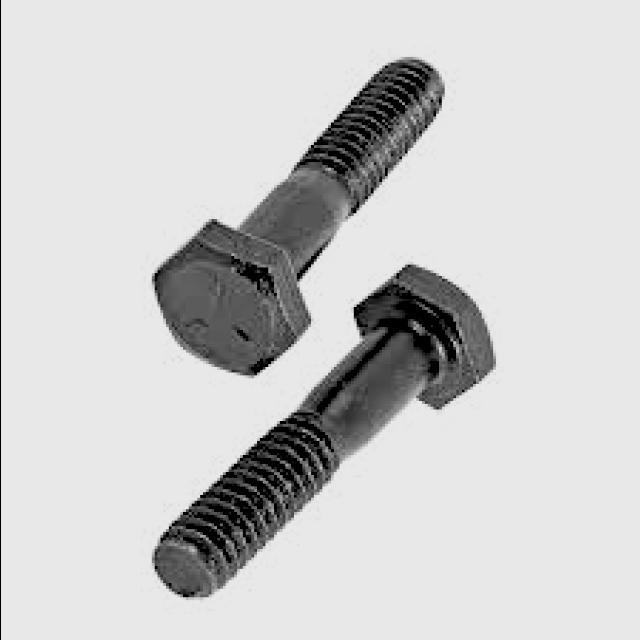Dry Waste: (116, 39, 548, 618)
